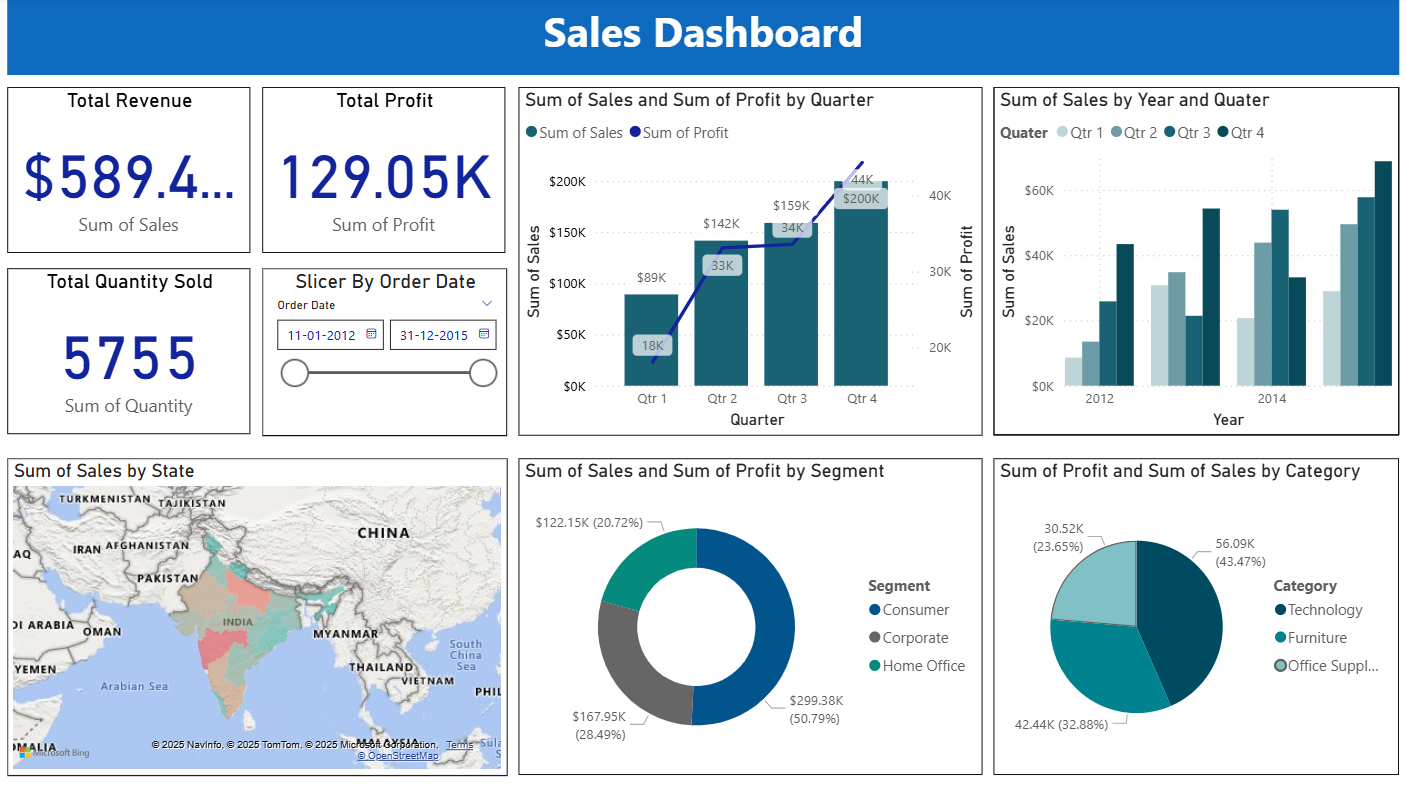

The page's visual inventory and layout, read from the dashboard file:
{"tool":"powerbi","page":{"name":"Overall Sales","canvas":[1280,720],"ordinal":0},"visuals":[{"type":"textbox","box":[9.6,0,1255.6,70],"z":0},{"type":"card","title":"Total Revenue","fields":{"Values":["Sum(Orders.Sales)"]},"box":[9.6,81,219.6,149.6],"z":1000},{"type":"card","title":"Total Quantity Sold","fields":{"Values":["Sum(Orders.Quantity)"]},"box":[9.6,244.3,219.6,149.6],"z":2000},{"type":"card","title":"Total Profit","fields":{"Values":["Sum(Orders.Profit)"]},"box":[240.1,81,219.6,149.6],"z":3000},{"type":"slicer","title":"Slicer By Order Date","fields":{"Values":["Orders.Order Date"]},"box":[240.1,244.3,220.9,150.9],"z":4000},{"type":"lineStackedColumnComboChart","fields":{"Category":["Orders.Order Date.Variation.Date Hierarchy.Year","Orders.Order Date.Variation.Date Hierarchy.Quarter","Orders.Order Date.Variation.Date Hierarchy.Month","Orders.Order Date.Variation.Date Hierarchy.Day"],"Y":["Sum(Orders.Sales)"],"Y2":["Sum(Orders.Profit)"]},"box":[471.4,81.4,418.6,314.3],"z":5000},{"type":"clusteredColumnChart","fields":{"Category":["Orders.Year"],"Series":["Orders.Quater"],"Y":["Sum(Orders.Sales)"]},"box":[900,81.4,365.7,314.3],"z":6000},{"type":"filledMap","fields":{"Category":["Orders.State"]},"box":[10,415.5,451.6,286.1],"z":7000},{"type":"donutChart","fields":{"Category":["Orders.Segment"],"Y":["Sum(Orders.Sales)"]},"box":[471.4,415.7,418.6,285.7],"z":8000},{"type":"pieChart","fields":{"Category":["Orders.Category"],"Y":["Sum(Orders.Profit)"]},"box":[900,415.7,365.7,285.7],"z":9000}]}

Visuals, with their boxes in screenshot pixels (x1, y1, x2, y2), scaled from the page's 1280x720 canvas onto the 1406x786 screenshot:
textbox: (x1=11, y1=0, x2=1390, y2=76)
"Total Revenue" card: (x1=11, y1=88, x2=252, y2=252)
"Total Quantity Sold" card: (x1=11, y1=267, x2=252, y2=430)
"Total Profit" card: (x1=264, y1=88, x2=505, y2=252)
"Slicer By Order Date" slicer: (x1=264, y1=267, x2=506, y2=431)
lineStackedColumnComboChart - Orders.Order Date.Variation.Date Hierarchy.Year x Orders.Order Date.Variation.Date Hierarchy.Quarter: (x1=518, y1=89, x2=978, y2=432)
clusteredColumnChart - Orders.Year x Orders.Quater: (x1=989, y1=89, x2=1390, y2=432)
filledMap - Orders.State: (x1=11, y1=454, x2=507, y2=766)
donutChart - Orders.Segment x Sum(Orders.Sales): (x1=518, y1=454, x2=978, y2=766)
pieChart - Orders.Category x Sum(Orders.Profit): (x1=989, y1=454, x2=1390, y2=766)
